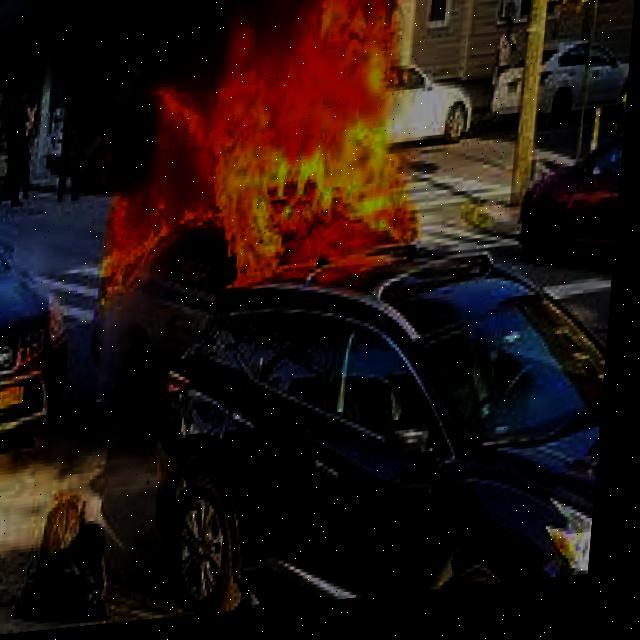Fire: (95, 0, 448, 350)
